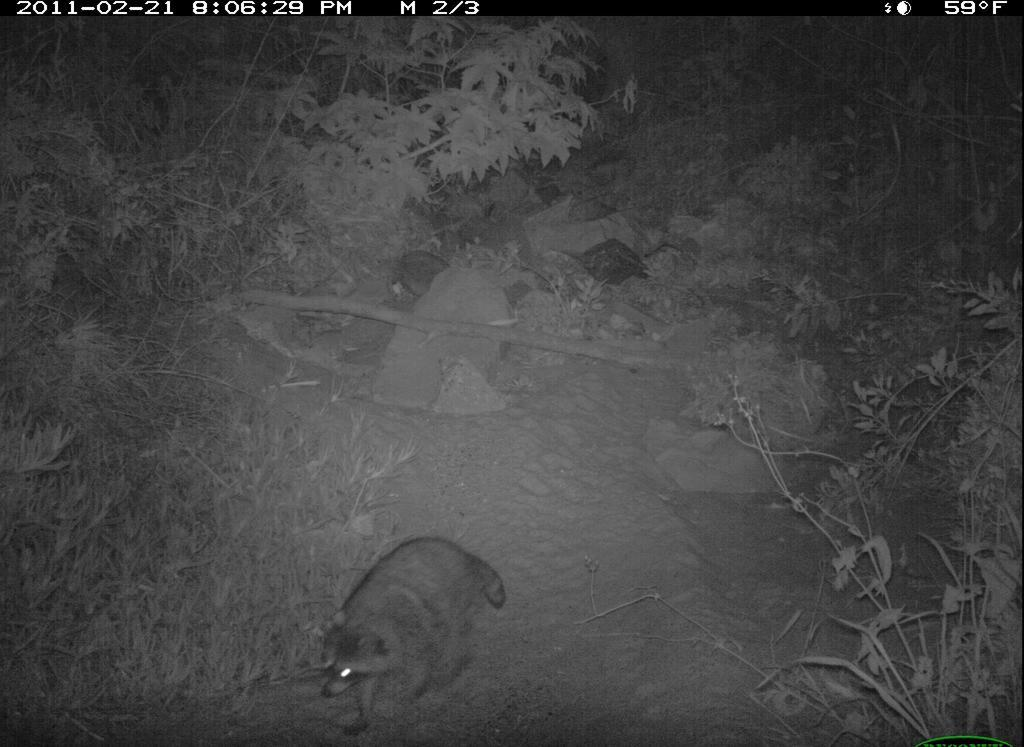raccoon: (303, 520, 532, 740)
